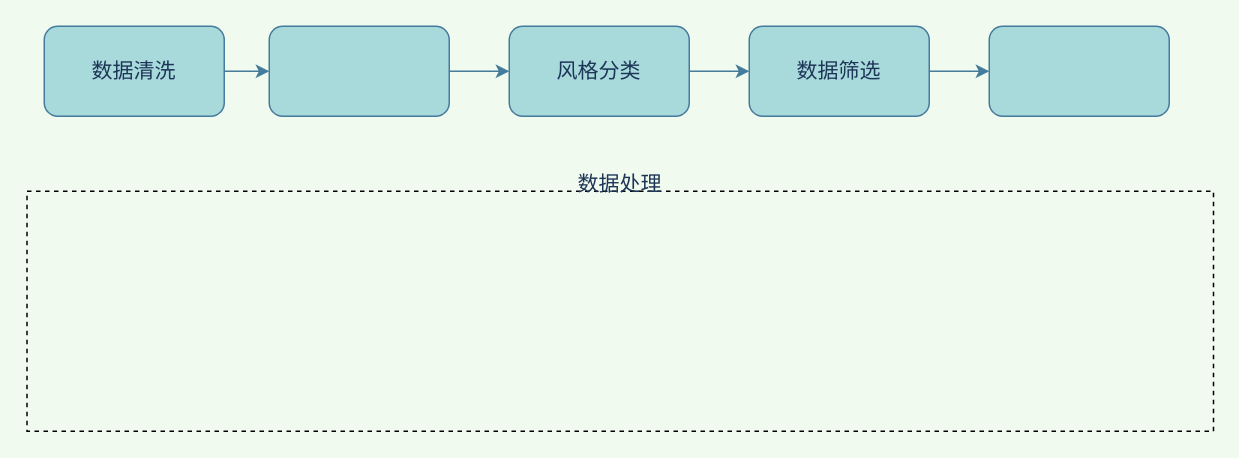
The diagram is 1239 pixels wide and 458 high, and some of its shapes have lost their labels. The centre of each missing label's shape, as x and y in pixels:
"旋律识别" goes at [358,70].
"片段分割" goes at [1078,70].
